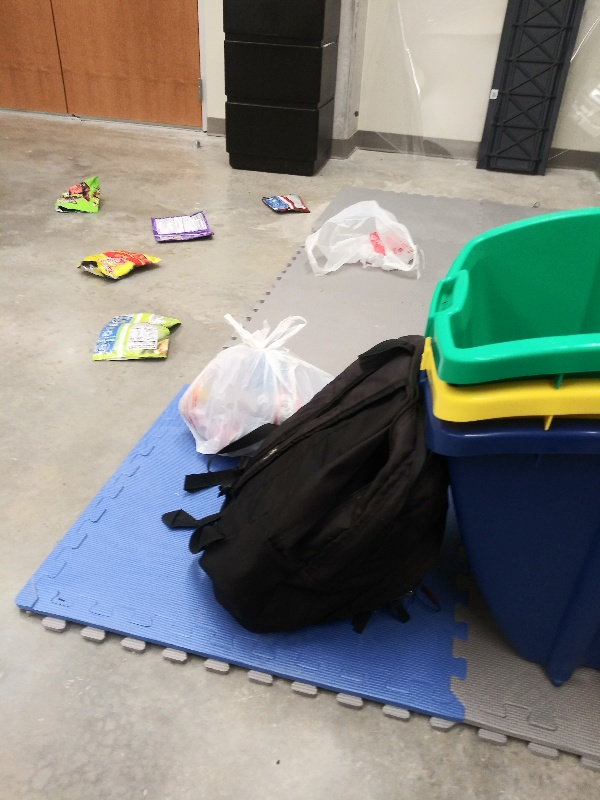bag: (81, 309, 185, 364), (73, 245, 168, 284), (145, 208, 221, 246), (50, 173, 106, 218), (258, 190, 316, 217)
